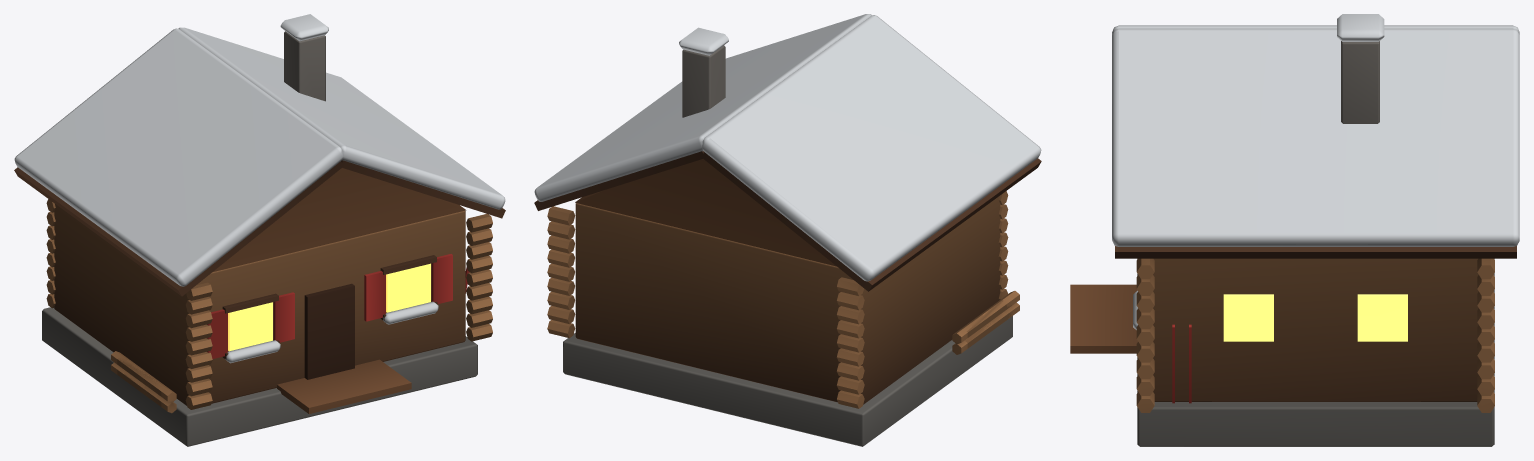
The model's file is prop.glacier_hut.glb.
3 views of the same model, side by side, from view 1: azimuth 30°, elevation 25°; view 2: azimuth 150°, elevation 25°; view 3: azimuth 270°, elevation 25° (orthographic). The views are drawn at different scales.
Parts seen in each view (by area): view 1: glacier_hut; view 2: glacier_hut; view 3: glacier_hut.
Part boxes in pixels (x1=…): glacier_hut: x1=14, y1=14, x2=505, y2=446; glacier_hut: x1=534, y1=14, x2=1041, y2=446; glacier_hut: x1=1070, y1=14, x2=1519, y2=446.
Size of the model in its own units: 8.32 by 7.45 by 8.05.
